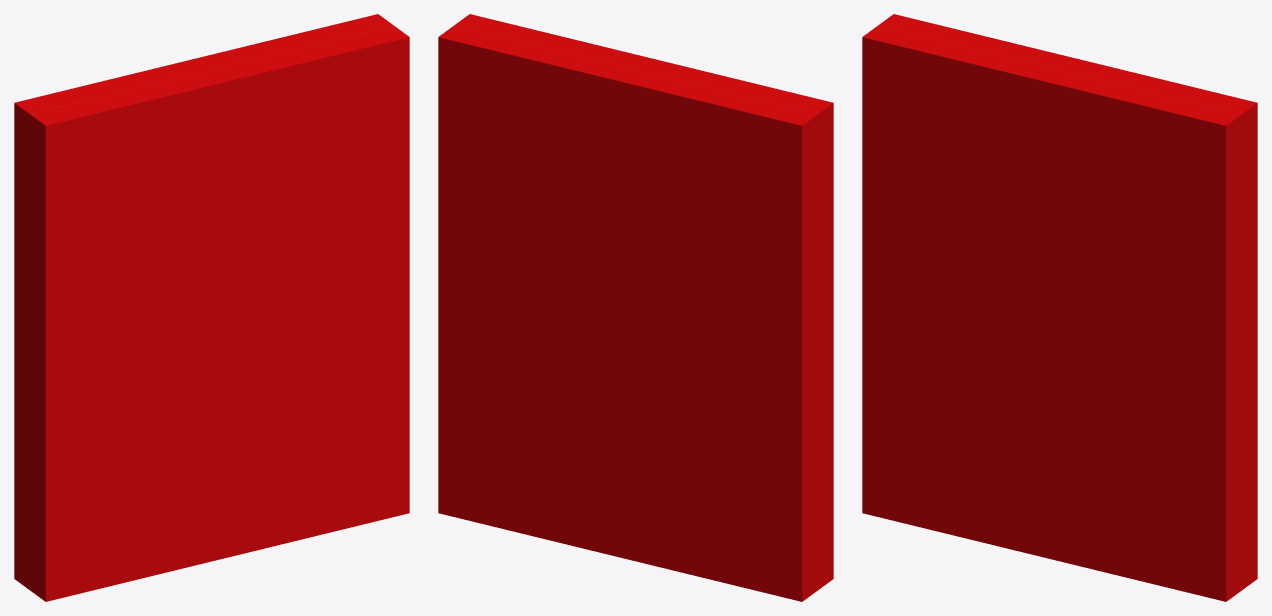
File: Wall Internal.fbx
The picture shows the model from 3 angles, left to right: view 1: azimuth 30°, elevation 25°; view 2: azimuth 150°, elevation 25°; view 3: azimuth 330°, elevation 25°; orthographic projection.
Visible parts, largest first — view 1: Well_internal_prop_01_R, Well_internal_prop_01_L; view 2: Well_internal_prop_01_L, Well_internal_prop_01_R; view 3: Well_internal_prop_01_R, Well_internal_prop_01_L.
Part boxes in pixels (x1=…): Well_internal_prop_01_R: x1=30, y1=25, x2=409, y2=601; Well_internal_prop_01_L: x1=14, y1=14, x2=393, y2=589; Well_internal_prop_01_L: x1=438, y1=25, x2=817, y2=601; Well_internal_prop_01_R: x1=454, y1=14, x2=833, y2=589; Well_internal_prop_01_R: x1=862, y1=25, x2=1241, y2=601; Well_internal_prop_01_L: x1=878, y1=14, x2=1257, y2=589.
Size of the model in its own units: 2 by 2.5 by 0.3004.
